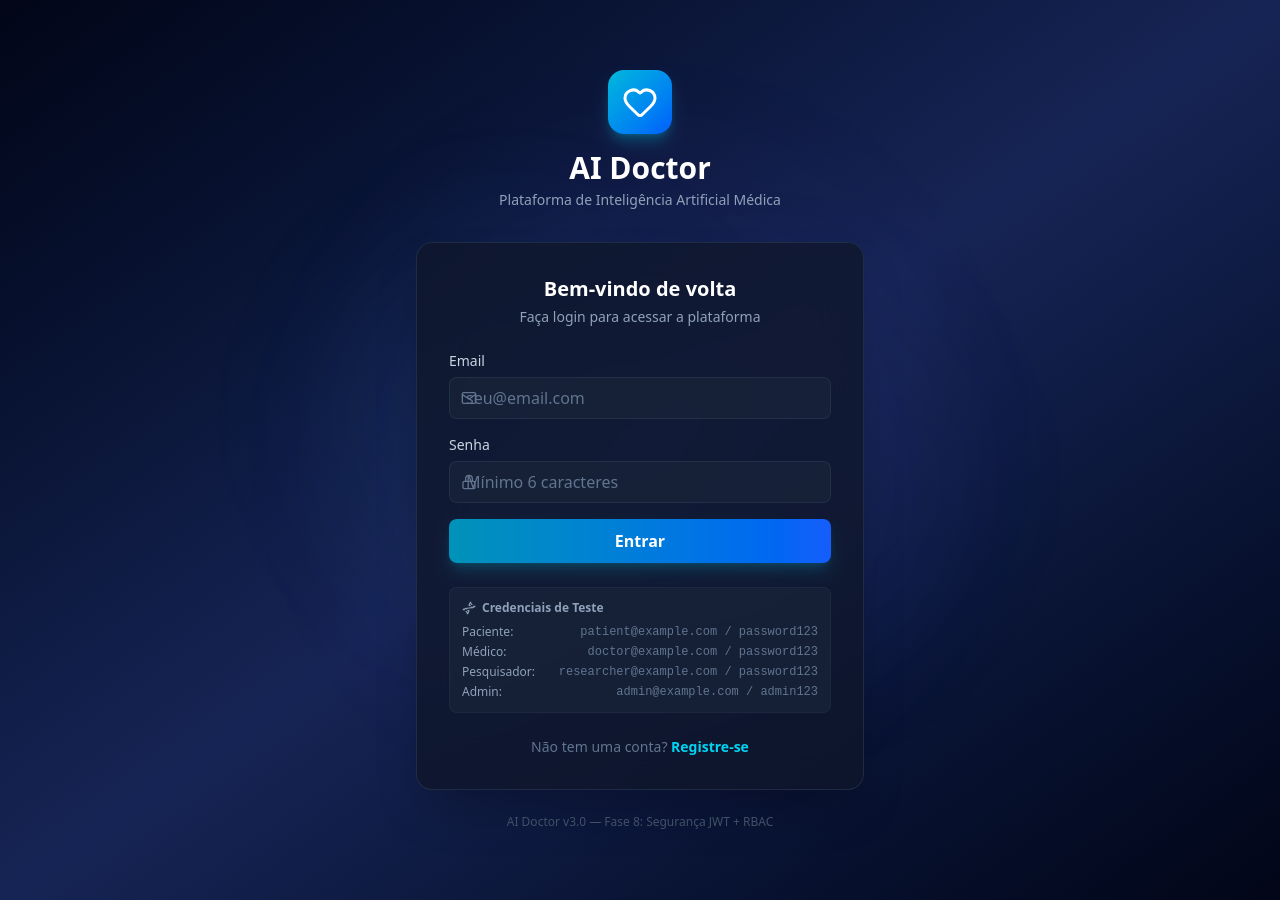
Test case: LoginPage › toggles to register mode when "Registre-se" is clicked
The width and height of the screenshot is (1280, 900).
Step 1. Click the button "Registre-se" → (710, 747), box [671,737,749,757]
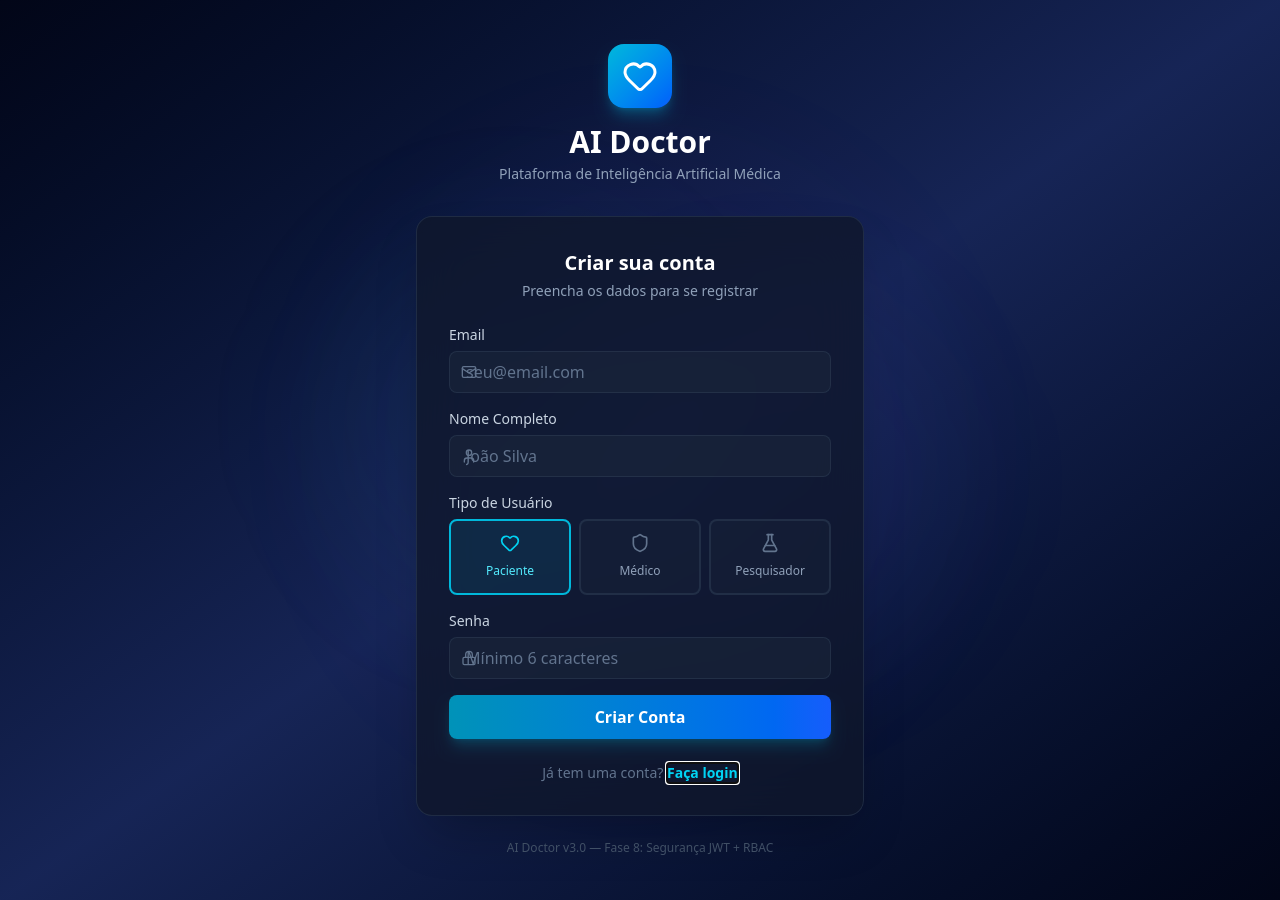
Check: the heading "Criar sua conta" is shown, box [564,249,716,276]
Check: the text "Preencha os dados para se registrar" is shown, box [522,281,758,300]
Check: the button "Criar Conta" is shown, box [449,695,831,739]
